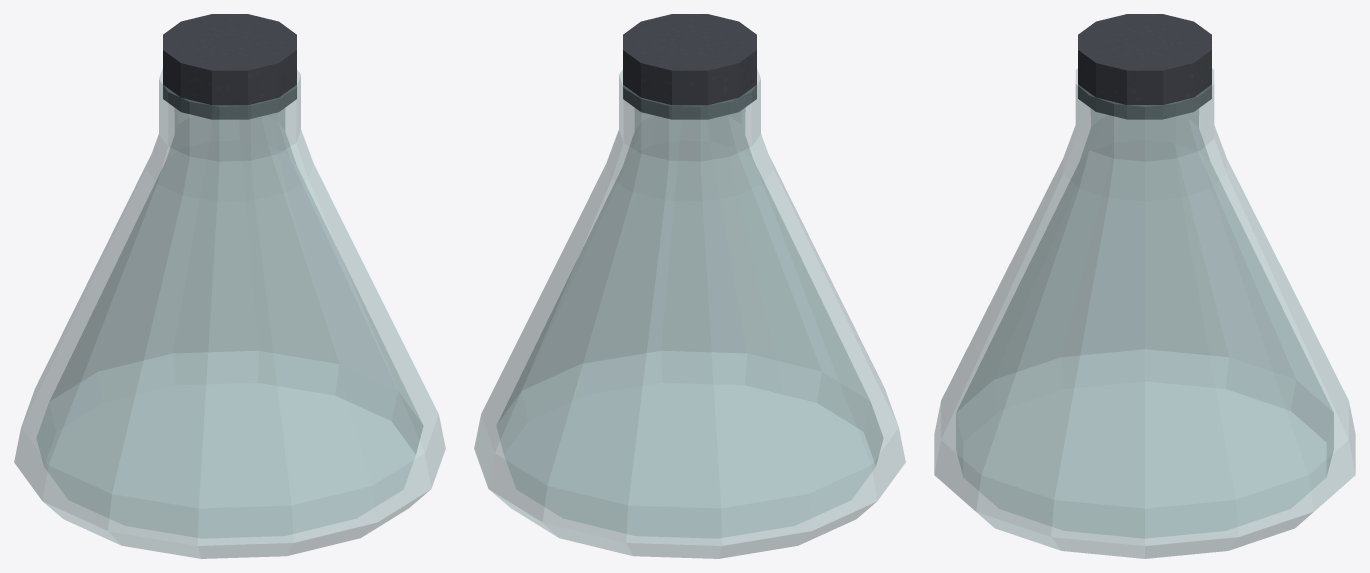
The model's file is flask_glass.glb.
3 views of the same model, side by side, from view 1: azimuth 30°, elevation 25°; view 2: azimuth 150°, elevation 25°; view 3: azimuth 270°, elevation 25° (orthographic).
Visible parts, largest first — view 1: block_conical flask, block_rubber stopper; view 2: block_conical flask, block_rubber stopper; view 3: block_conical flask, block_rubber stopper.
Boxes of the visible parts, x1,y1,x2,y2 form: block_conical flask: (14, 68, 445, 558); block_rubber stopper: (163, 14, 296, 119); block_conical flask: (474, 68, 905, 558); block_rubber stopper: (623, 14, 756, 119); block_conical flask: (934, 68, 1355, 558); block_rubber stopper: (1078, 14, 1211, 119).
Size of the model in its own units: 0.1187 by 0.132 by 0.1158.
2 materials, 2 textured.
